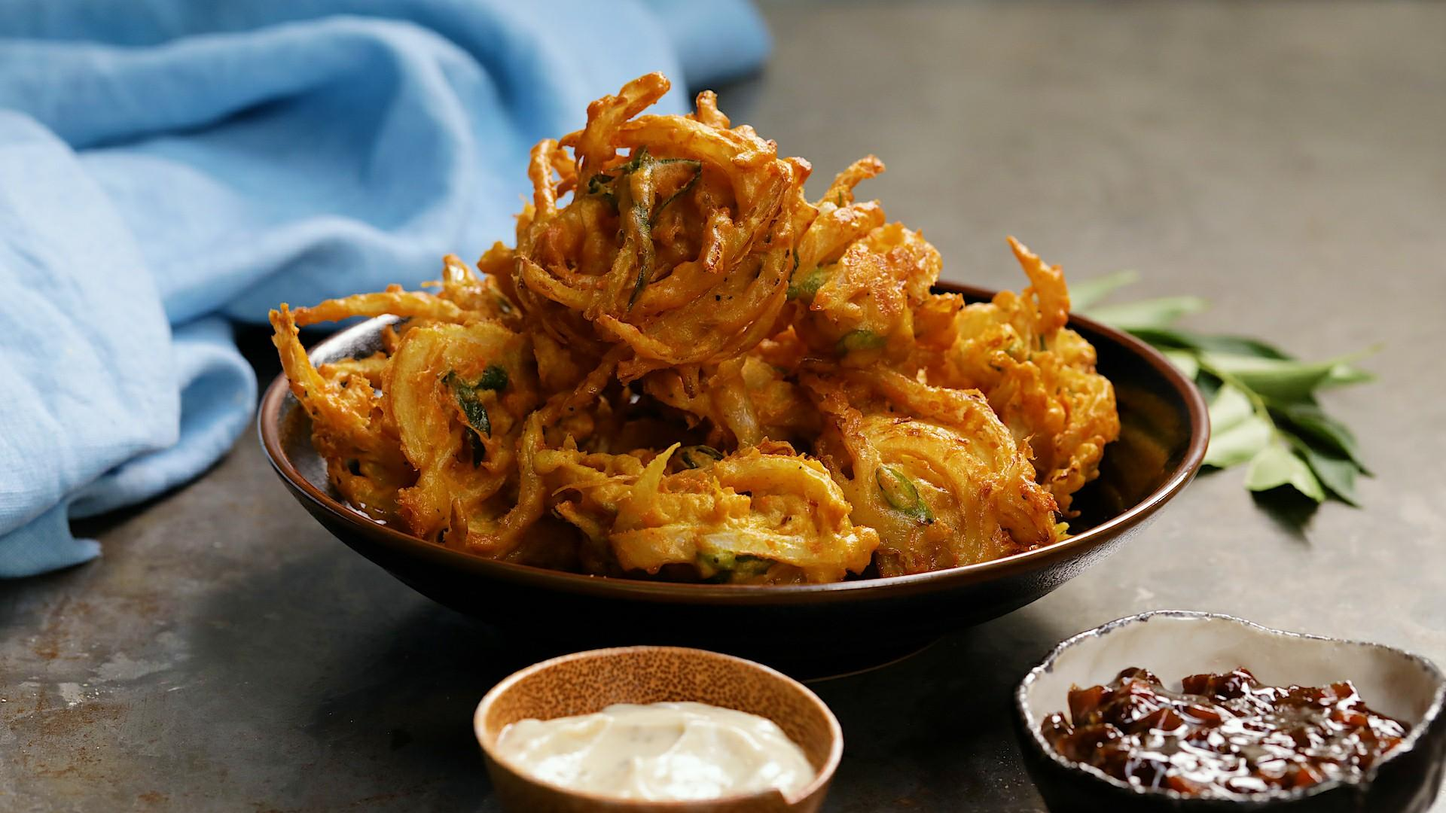OnionPakoda: (249, 69, 1128, 587)
